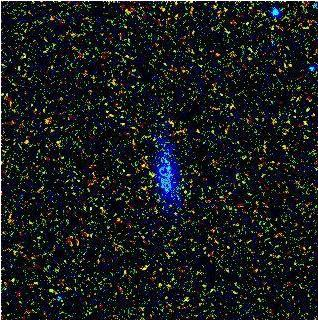star: (136, 160, 166, 190)
